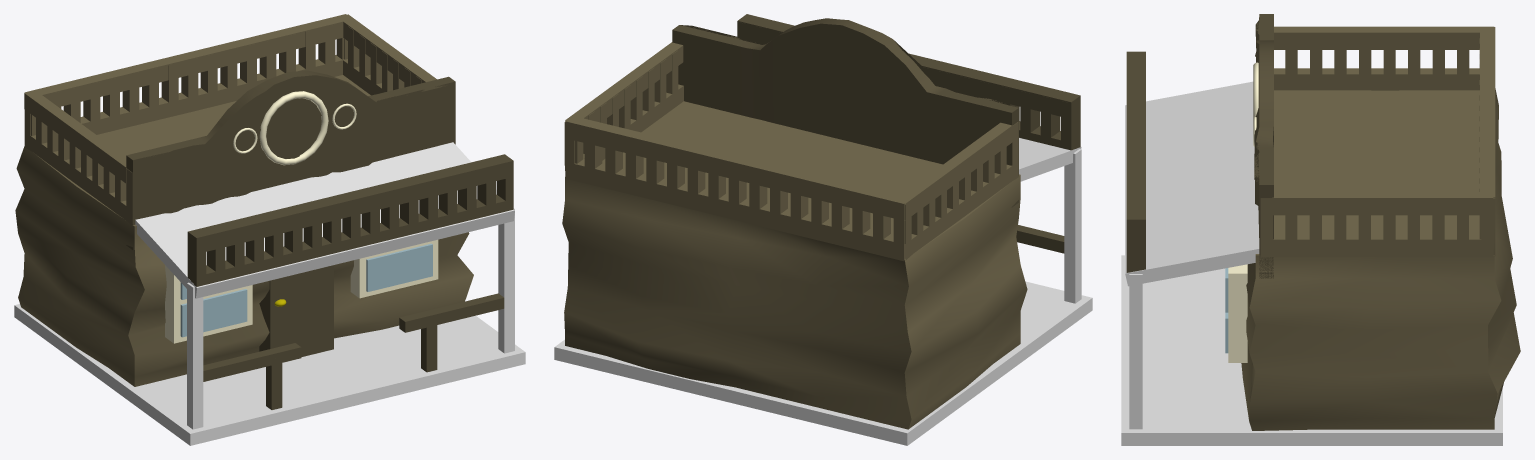
Rendered from desertExit.fbx.
3 views of the same model, side by side, from view 1: azimuth 30°, elevation 25°; view 2: azimuth 150°, elevation 25°; view 3: azimuth 270°, elevation 25° (orthographic). The views are drawn at different scales.
Parts seen in each view (by area): view 1: base, sign, floor, roof, fencebase1, fencebase, fenceTop, door, fenceTop1, fencebase3, fenceTop3, fencebase2 (+12 smaller); view 2: base, sign, fencebase1, floor, fenceTop1, fencebase3, fenceTop, fencebase, fencebase2, fenceTop3, support1, fenceTop2 (+2 smaller); view 3: base, floor, roof, fencebase3, fencebase2, fenceTop2, sign, fenceTop3, fenceTop, fenceTop1, support, windowFrame1 (+2 smaller).
Part boxes in pixels (box(x1,y1,x2,y2)): base: box(15, 75, 473, 386); sign: box(126, 70, 455, 249); floor: box(14, 304, 525, 445); roof: box(135, 142, 514, 298); fencebase1: box(31, 24, 347, 135); fencebase: box(187, 177, 513, 286); fenceTop: box(187, 154, 513, 253); door: box(259, 265, 333, 357); fenceTop1: box(24, 14, 352, 106); fencebase3: box(24, 110, 132, 224); fenceTop3: box(24, 90, 126, 183); fencebase2: box(336, 26, 421, 95); base: box(562, 101, 1027, 429); sign: box(672, 18, 1018, 207); fencebase1: box(564, 121, 911, 261); floor: box(554, 281, 1092, 445); fenceTop1: box(565, 116, 909, 220); fencebase3: box(904, 122, 1018, 260); fenceTop: box(737, 14, 1080, 118); fencebase: box(737, 22, 1080, 150); fencebase2: box(575, 50, 683, 163); fenceTop3: box(899, 122, 1012, 220); support1: box(1064, 149, 1081, 303); fenceTop2: box(565, 42, 683, 122); base: box(1241, 88, 1520, 430); floor: box(1121, 255, 1502, 445); roof: box(1125, 81, 1259, 286); fencebase3: box(1274, 33, 1479, 90); fencebase2: box(1260, 198, 1493, 256); fenceTop2: box(1272, 192, 1493, 215); sign: box(1254, 14, 1273, 278); fenceTop3: box(1274, 26, 1493, 49); fenceTop: box(1126, 51, 1145, 220); fenceTop1: box(1480, 27, 1495, 198); support: box(1129, 274, 1142, 429); windowFrame1: box(1228, 264, 1247, 362).
Bounding box in the file's own units: 22.84 × 17.48 × 20.73.
